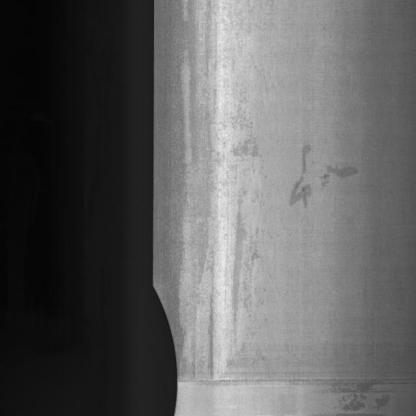crescent_gap: (142, 268, 191, 416)
